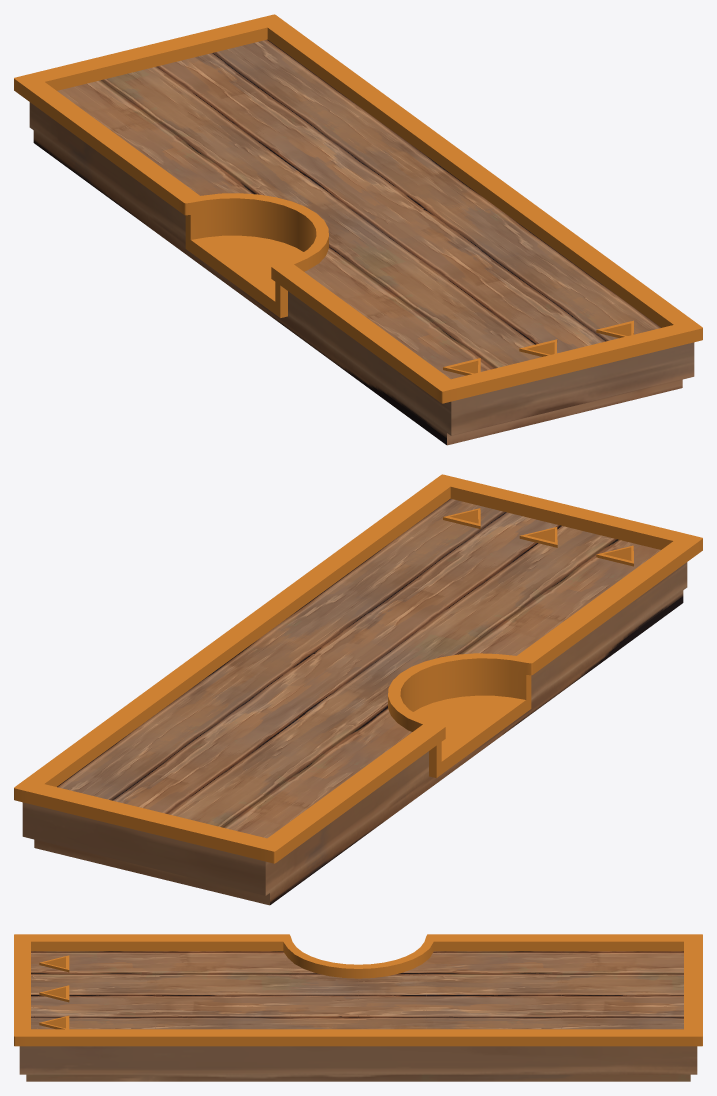
File: CrateLid.fbx
3 renders of one model, top to bottom at view 1: azimuth 30°, elevation 25°; view 2: azimuth 150°, elevation 25°; view 3: azimuth 270°, elevation 25°, orthographic. The views are drawn at different scales.
Visible parts, largest first — view 1: CoverTop; view 2: CoverTop; view 3: CoverTop.
Boxes of the visible parts, <box> form: CoverTop: <box>14,14,702,445</box>; CoverTop: <box>14,474,702,905</box>; CoverTop: <box>14,934,702,1081</box>.
Bounding box in the file's own units: 628 × 143 × 1784.
